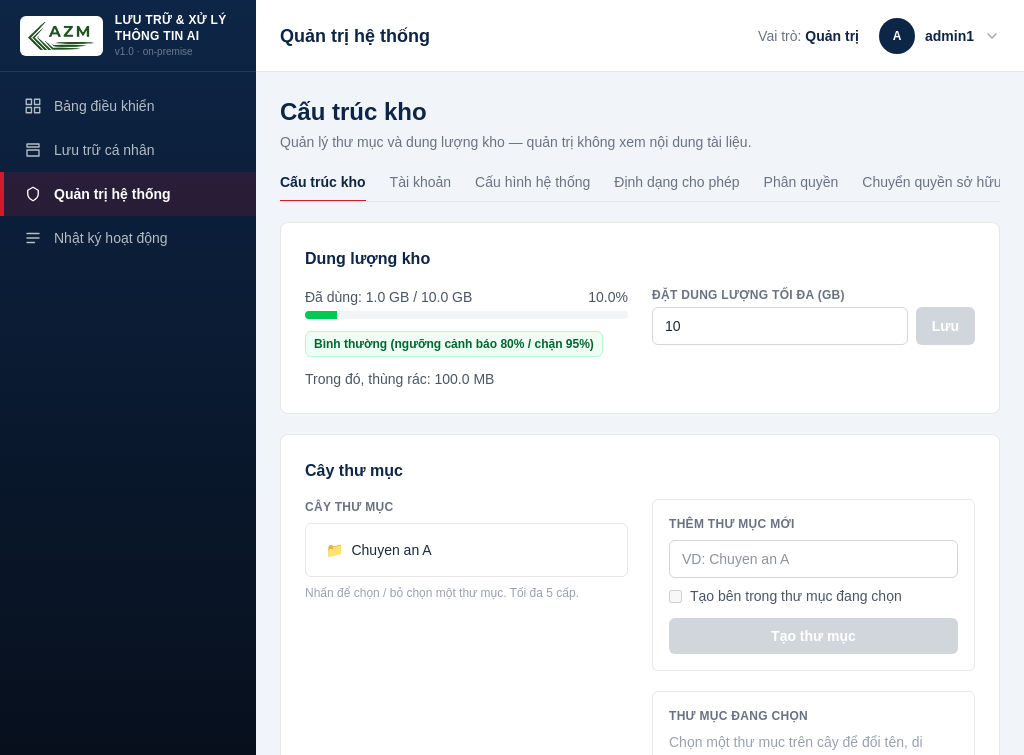
FolderAdminPage › creates a folder at the root
The width and height of the screenshot is (1024, 755).
expect the button "📁 Chuyen an A" is shown: met, box [318, 536, 615, 564]
In the field with placeholder "VD: Chuyen an A": (814,559) [669, 540, 958, 578], type "Kho moi"
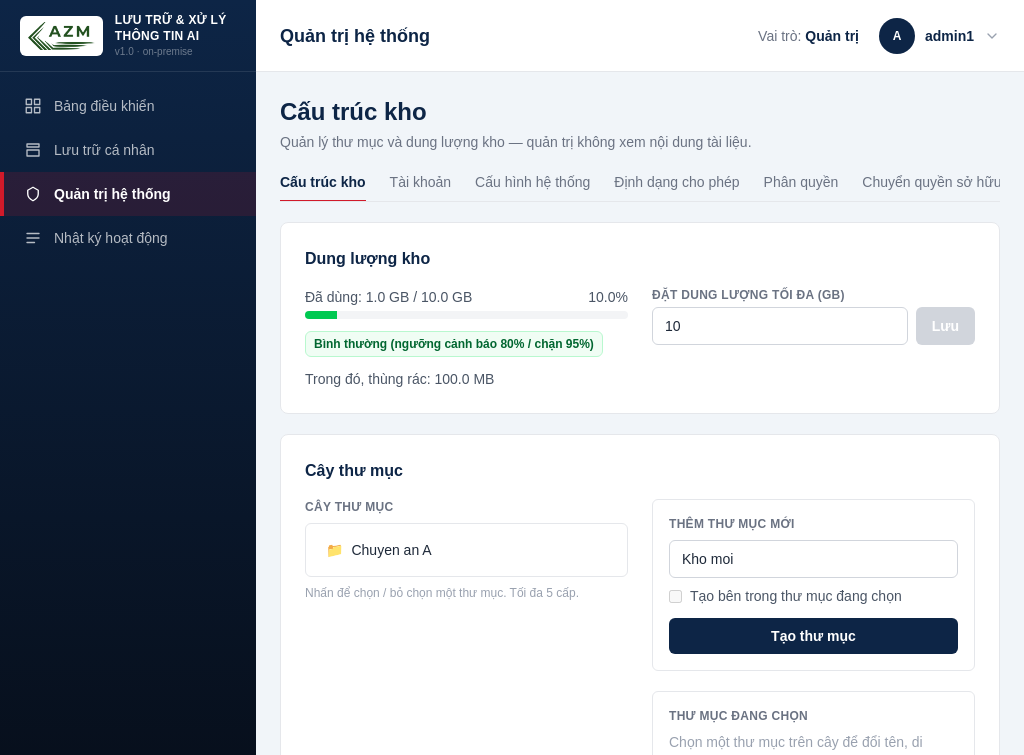
Click the button "Tạo thư mục": (814,636) [669, 618, 958, 654]
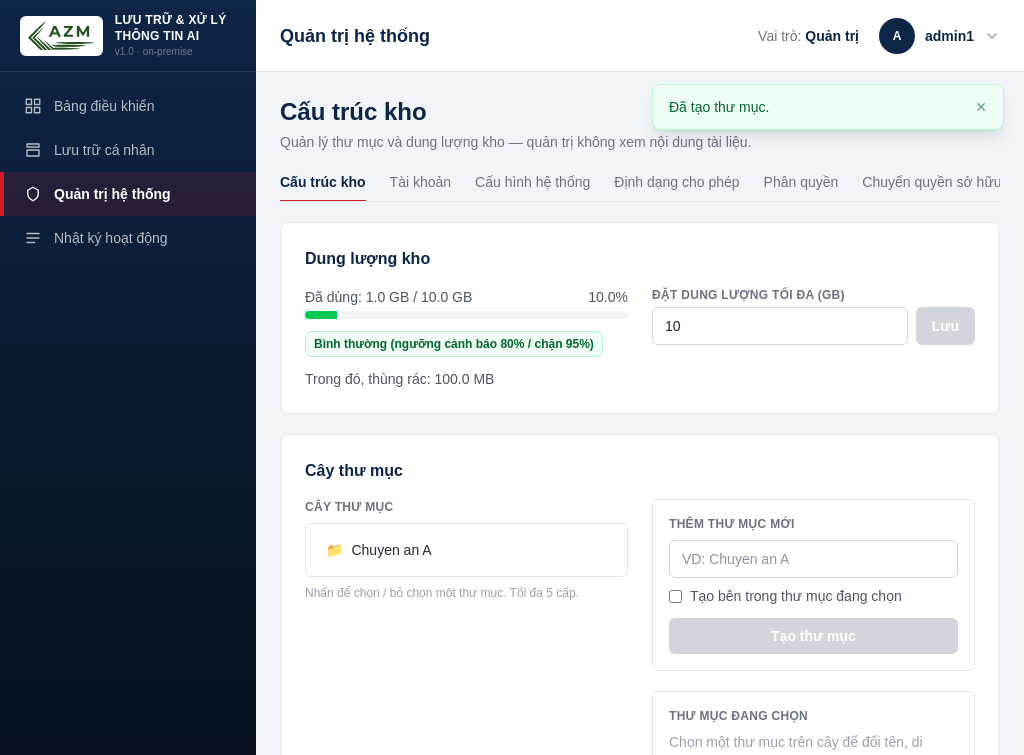
expect the text "Đã tạo thư mục." is shown: met, box [669, 99, 769, 115]
